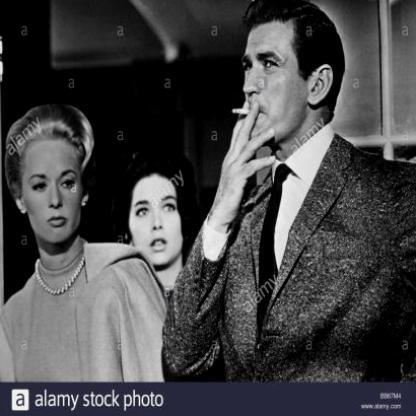cigarette: (232, 107, 250, 117)
person: (233, 0, 366, 391), (0, 102, 121, 390), (121, 164, 190, 266)
